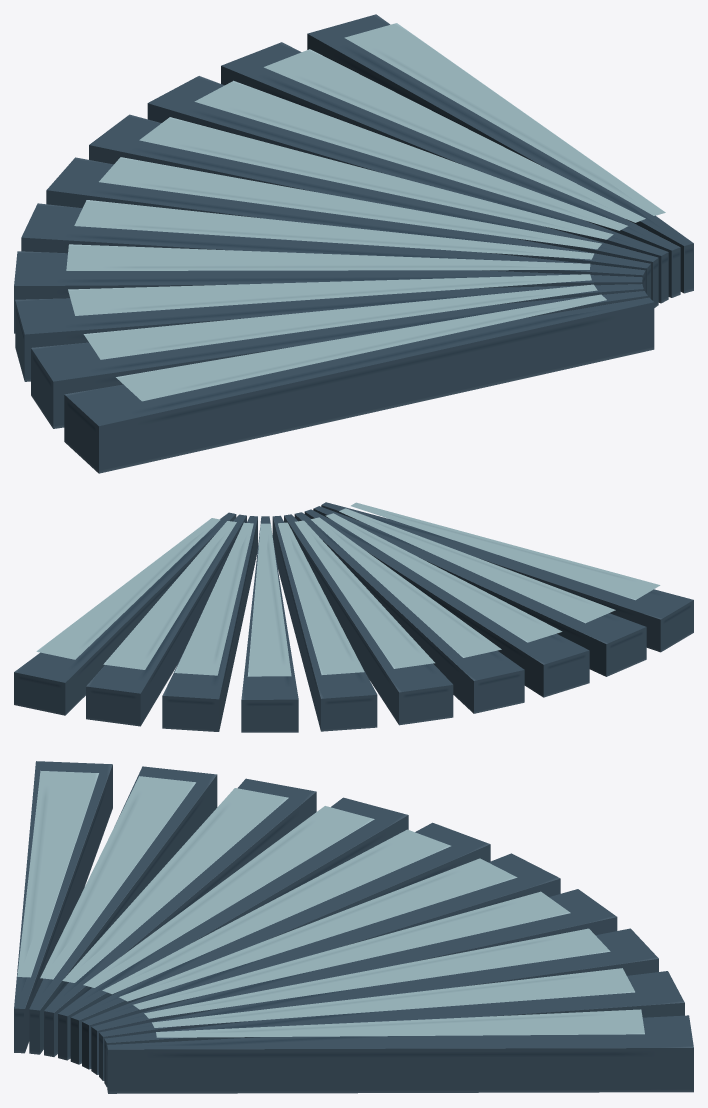
File: sc_tread_curve_right_1.obj
The picture shows the model from 3 angles, top to bottom: view 1: azimuth 30°, elevation 25°; view 2: azimuth 150°, elevation 25°; view 3: azimuth 270°, elevation 25°; orthographic projection. The views are drawn at different scales.
Bounding box in the file's own units: 17.47 × 1.56 × 17.41.
Materials: 1 (1 with a texture image).
